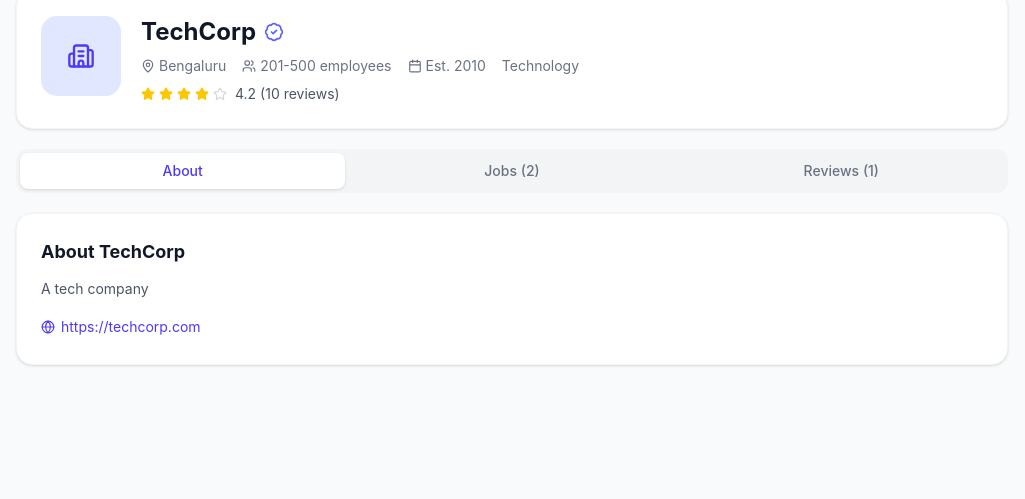
Test: CompanyProfile — tabs › switches to reviews tab when clicked
Expected: the heading "TechCorp" is shown, x1=141 y1=16 x2=256 y2=48
Click the button "reviews (1)" at (841, 171), box x1=679 y1=153 x2=1004 y2=189
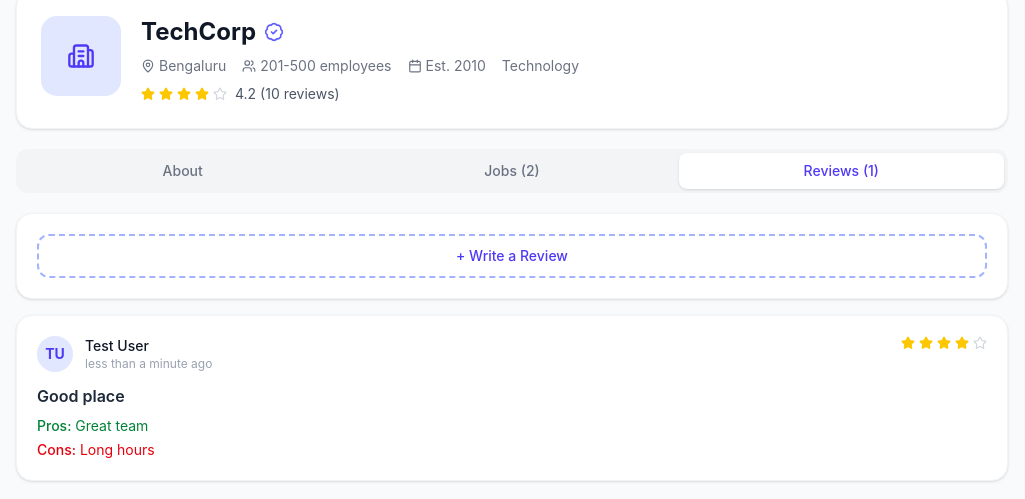
Result: the heading "Good place" is shown at x1=37 y1=386 x2=125 y2=406
